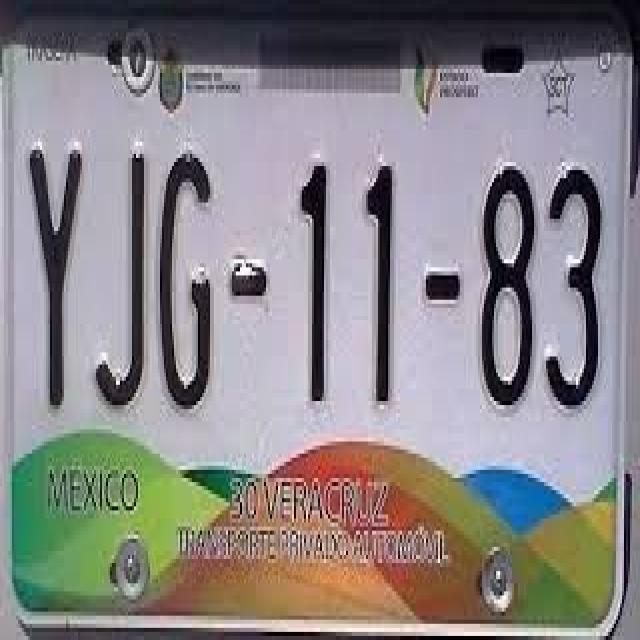placa: (7, 108, 622, 442)
